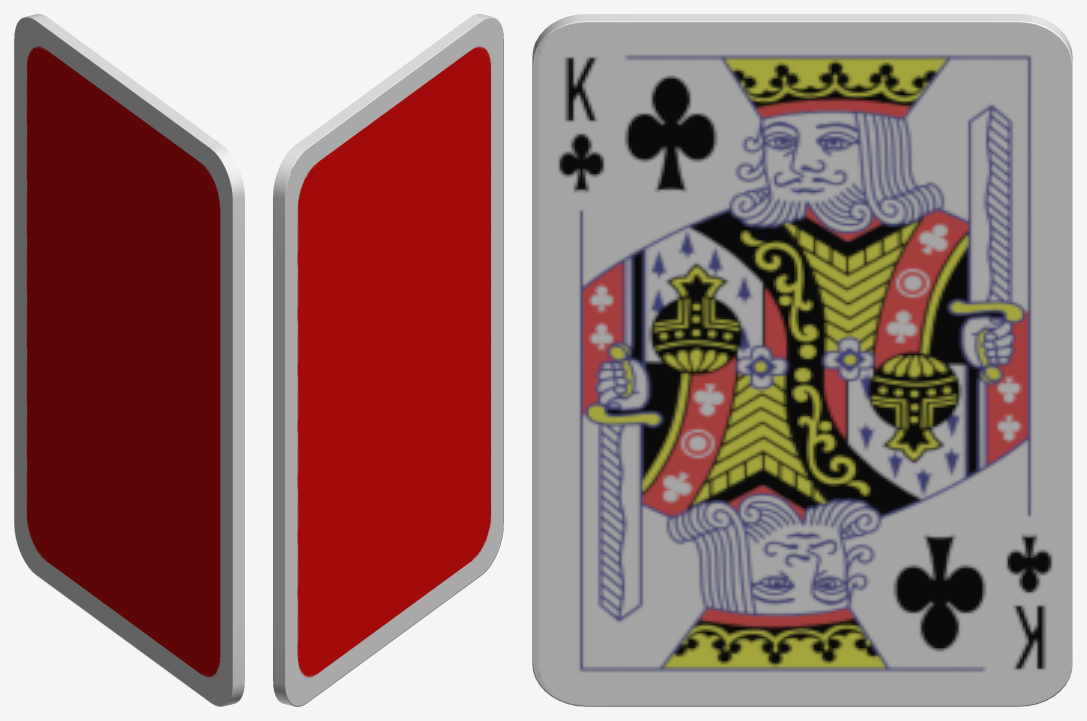
Rendered from findwaffle_club_king.glb.
3 views of the same model, side by side, from view 1: azimuth 30°, elevation 25°; view 2: azimuth 150°, elevation 25°; view 3: azimuth 270°, elevation 25° (orthographic). The views are drawn at different scales.
Visible parts, largest first — view 1: clubs_king; view 2: clubs_king; view 3: clubs_king.
Part boxes in pixels (x1=…): clubs_king: x1=14, y1=14, x2=244, y2=706; clubs_king: x1=273, y1=14, x2=503, y2=706; clubs_king: x1=532, y1=14, x2=1072, y2=706.
Bounding box in the file's own units: 0.014 × 0.6223 × 0.4445.
Materials: 1 (1 with a texture image).
